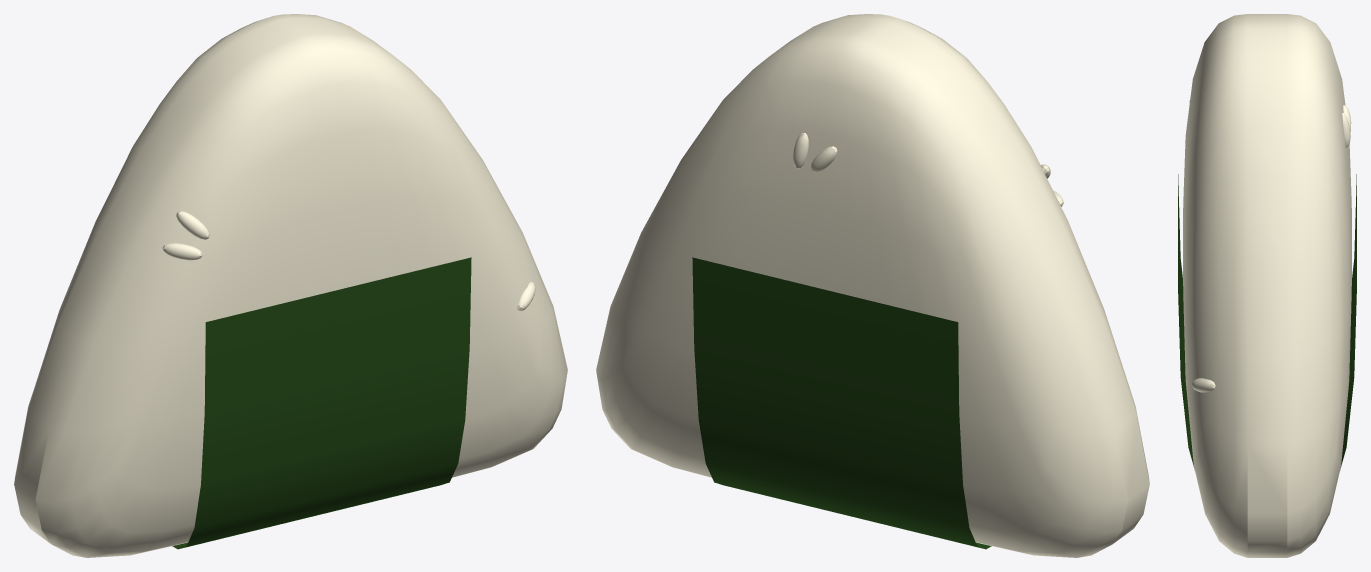
Rendered from rice_ball.glb.
3 views of the same model, side by side, from view 1: azimuth 30°, elevation 25°; view 2: azimuth 150°, elevation 25°; view 3: azimuth 270°, elevation 25° (orthographic). The views are drawn at different scales.
Parts seen in each view (by area): view 1: Cube.419; view 2: Cube.419; view 3: Cube.419.
Boxes of the visible parts, box(x1,y1,x2,y2) form: Cube.419: box(14, 14, 567, 557); Cube.419: box(596, 14, 1149, 557); Cube.419: box(1178, 14, 1356, 557).
Size of the model in its own units: 2.36 by 2.03 by 0.7428.
1 material, 1 textured.
